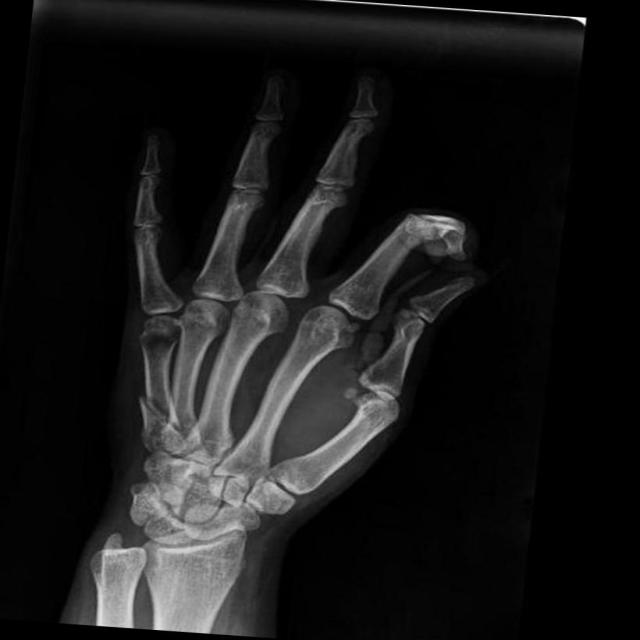Comminuted: (399, 190, 473, 270)
Oblique Displaced: (118, 376, 189, 451)
